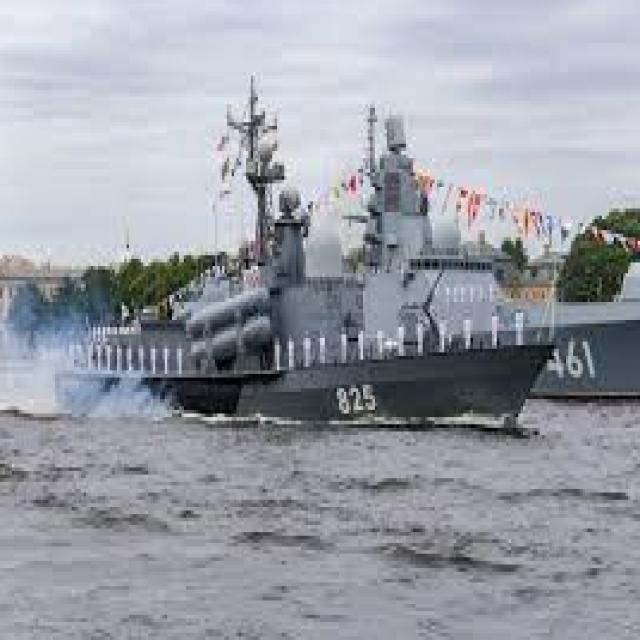navalvessels: (55, 67, 532, 426), (320, 108, 640, 410)
